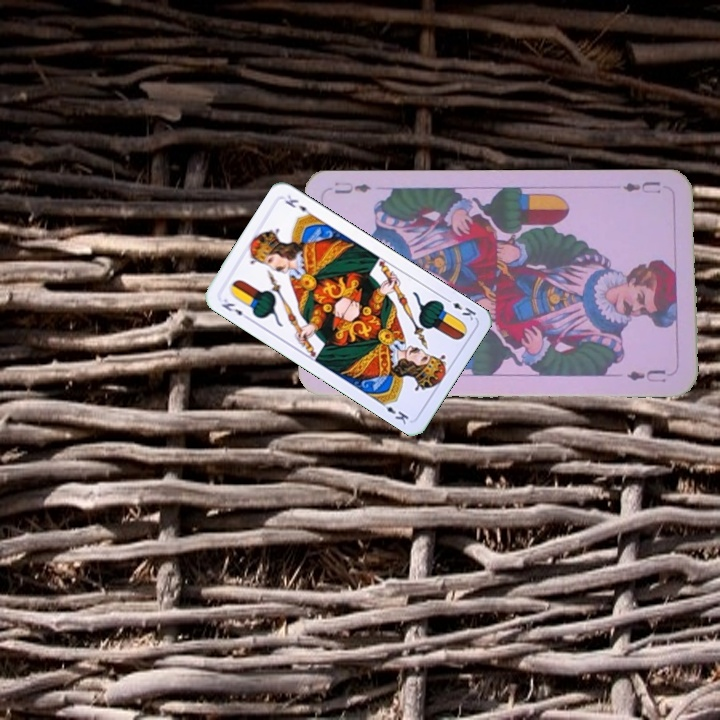EK: (441, 294, 479, 323), (217, 295, 253, 323)
EU: (619, 177, 663, 196)
